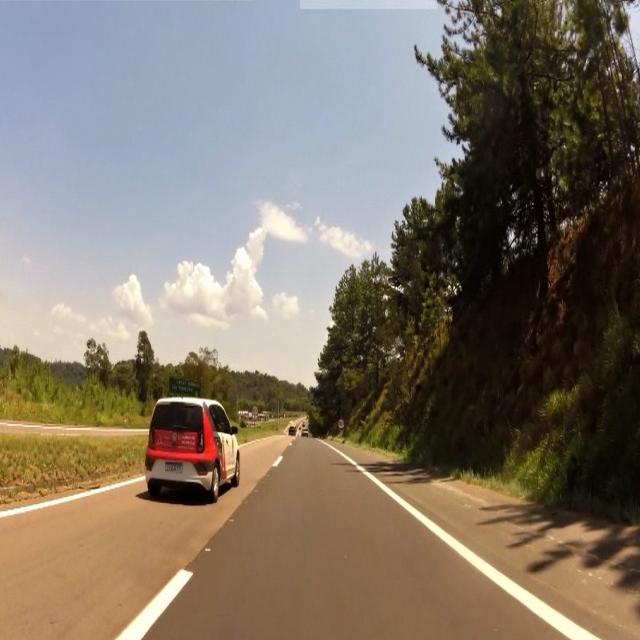I-4: (168, 378, 199, 400)
